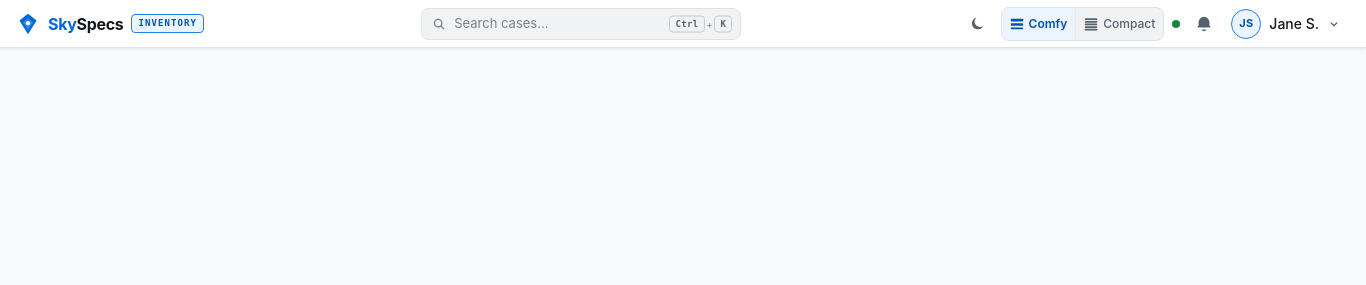
Scenario: InventoryNavbar — dropdown open/close › closes the dropdown on Escape key
Click the button with aria-label "user menu": (1288, 24) [1226,6,1350,42]
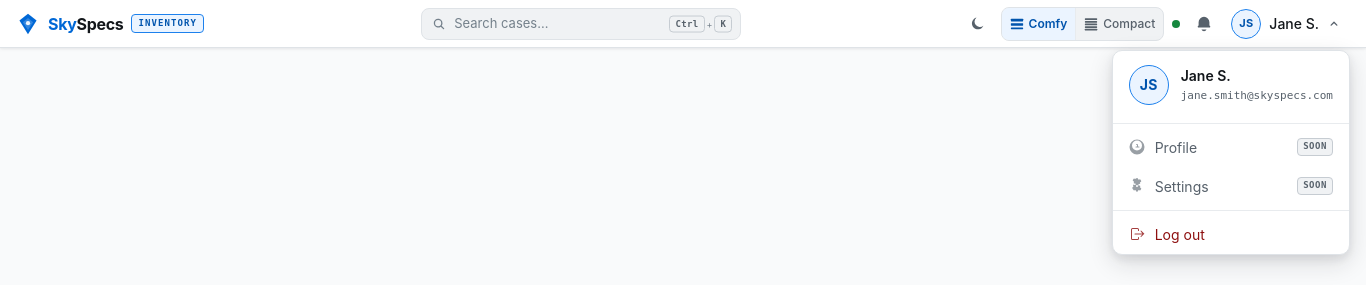
Result: the menu is shown at [1112,50,1350,254]
Press Escape
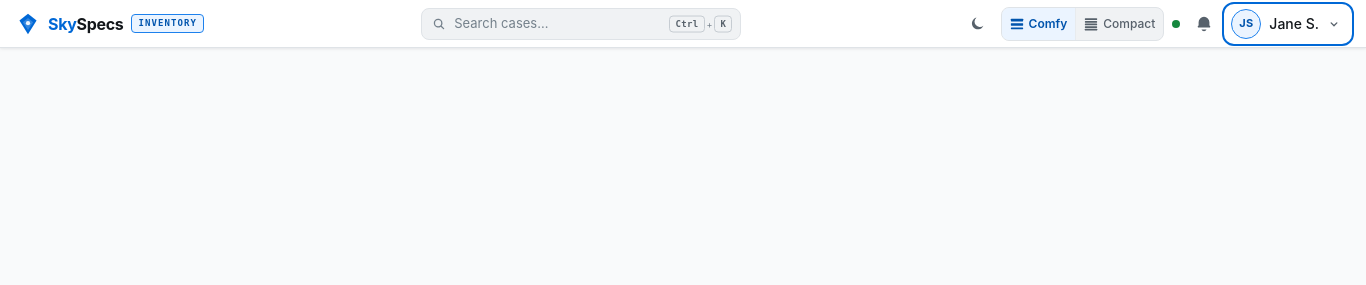
Result: the menu is gone
Result: the button with aria-label "user menu" is collapsed at [1226,6,1350,42]
